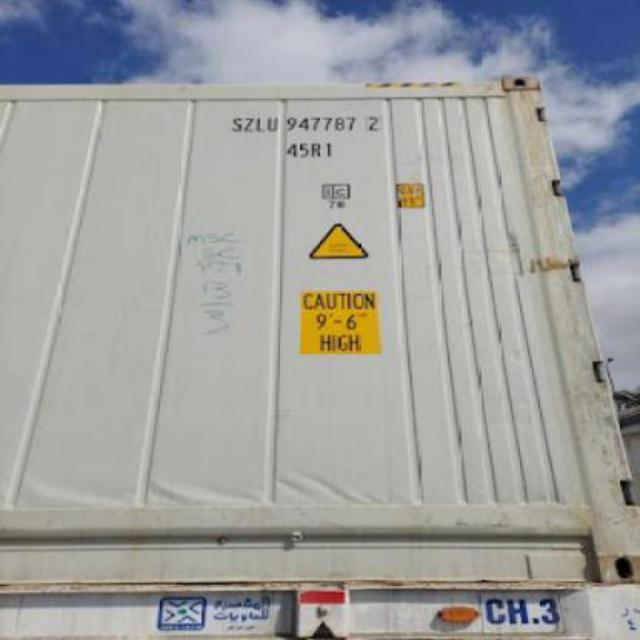2: (368, 115, 378, 128)
4: (298, 114, 310, 134)
7: (322, 114, 334, 134), (344, 114, 356, 134), (312, 116, 322, 132)
8: (336, 118, 344, 132)
9: (286, 118, 298, 132)
L: (254, 117, 266, 133)
S: (228, 116, 244, 134)
U: (268, 118, 280, 132)
Z: (244, 116, 254, 134)
